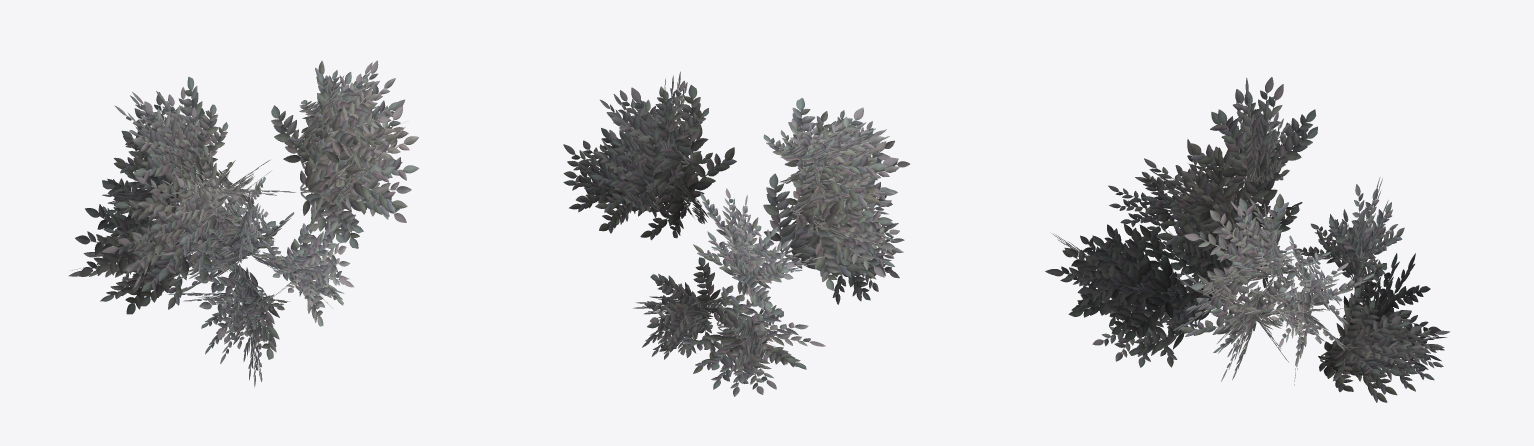
File: oak_l1.gltf
3 views of the same model, side by side, from view 1: azimuth 30°, elevation 25°; view 2: azimuth 150°, elevation 25°; view 3: azimuth 270°, elevation 25° (orthographic). The views are drawn at different scales.
Visible parts, largest first — view 1: oak_l1; view 2: oak_l1; view 3: oak_l1.
Boxes of the visible parts, x1,y1,x2,y2 form: oak_l1: [69, 60, 419, 387]; oak_l1: [563, 71, 909, 396]; oak_l1: [1045, 77, 1449, 402].
Size of the model in its own units: 12.54 by 10.34 by 13.51.
1 material, 1 textured.
